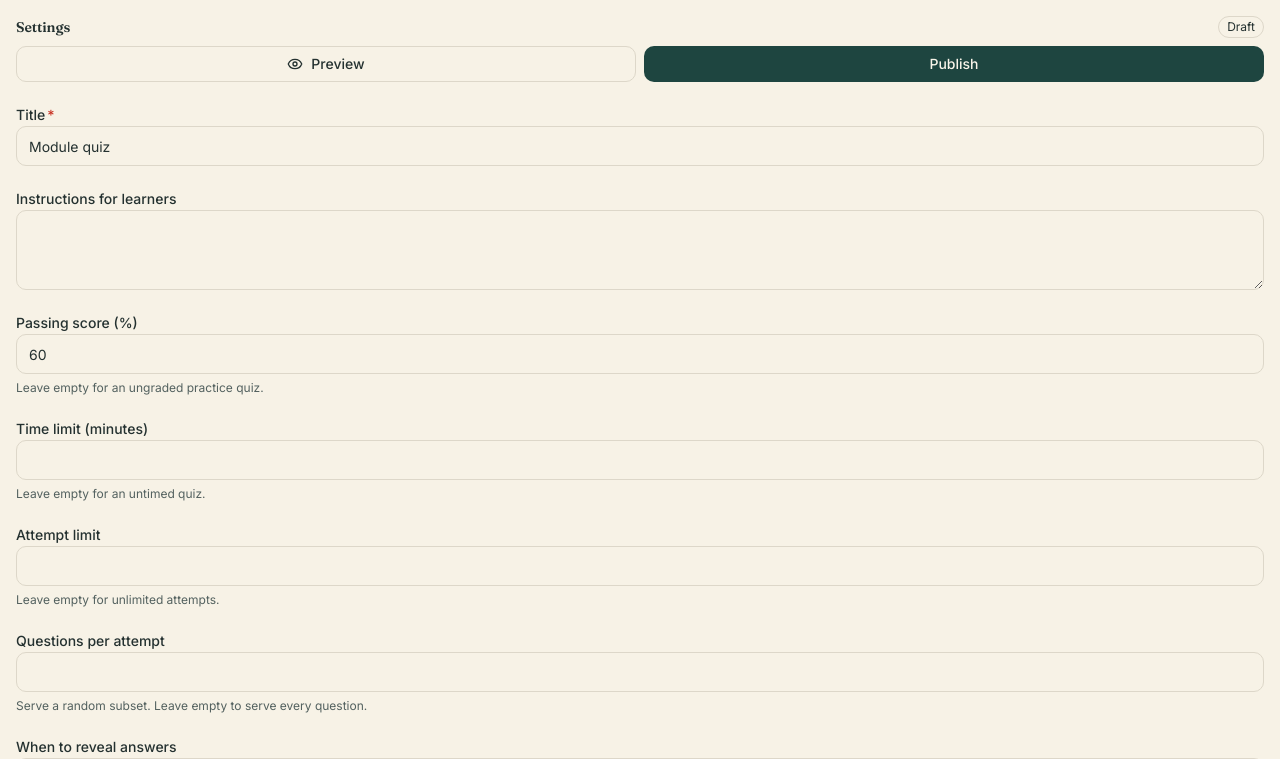
Test: publishing › keeps unsaved edits when a publish fails
Replace the text in the field labelled "Title*" with "Renamed" at (640,146), box x1=16 y1=126 x2=1264 y2=166
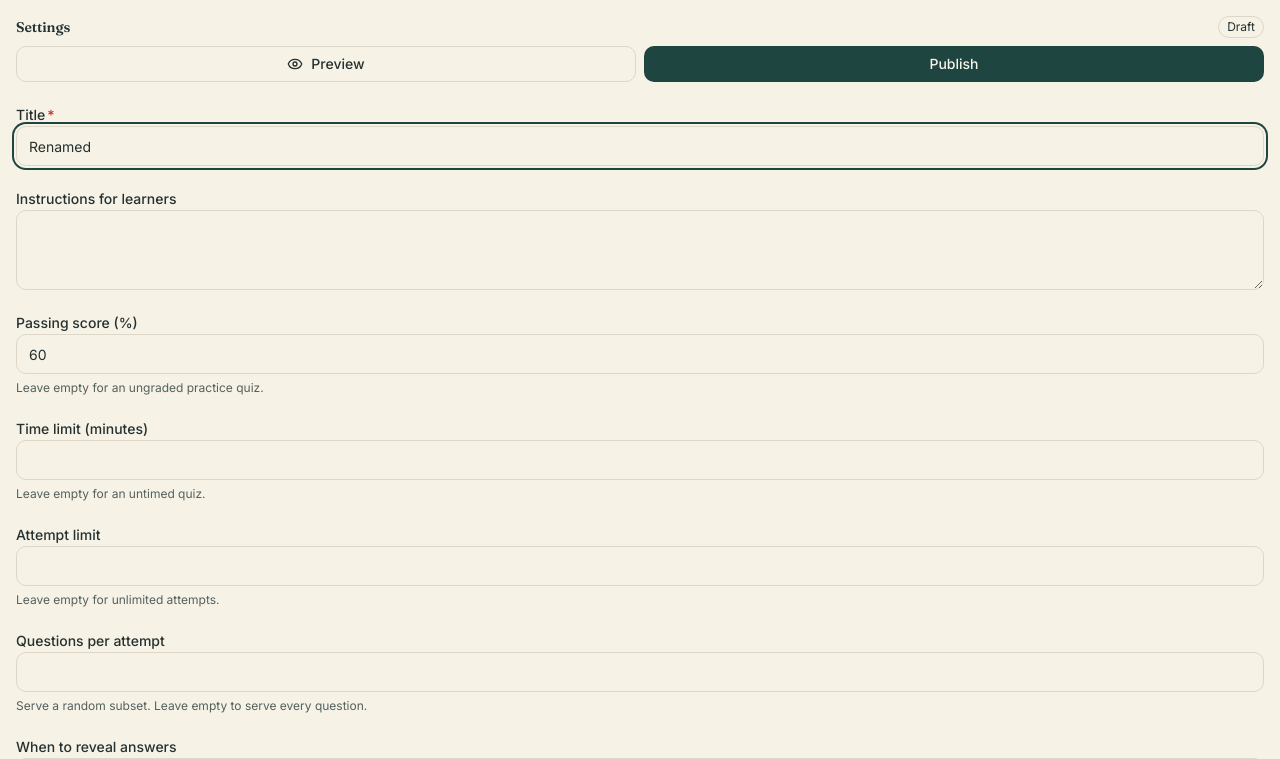
Click the button "Publish" at (954,64), box x1=644 y1=46 x2=1264 y2=82
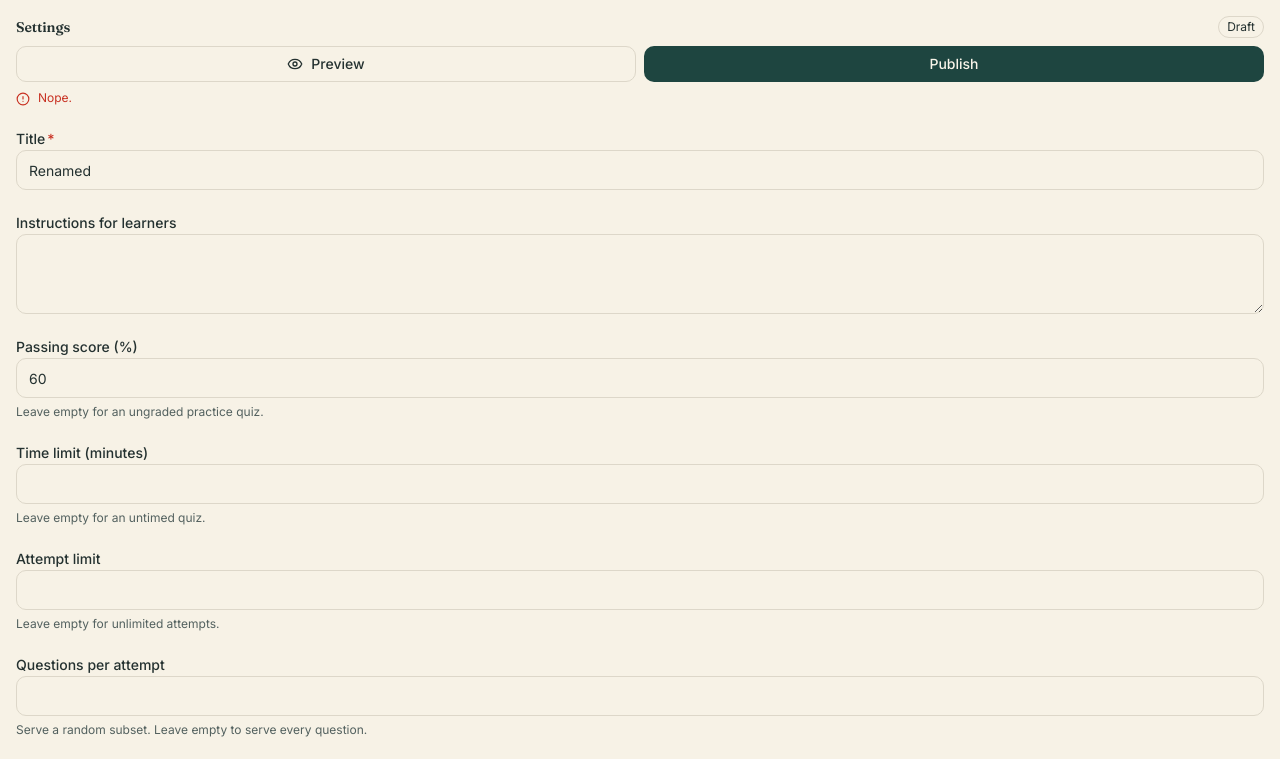
Check: the message "Nope." is shown, box x1=16 y1=90 x2=72 y2=106
